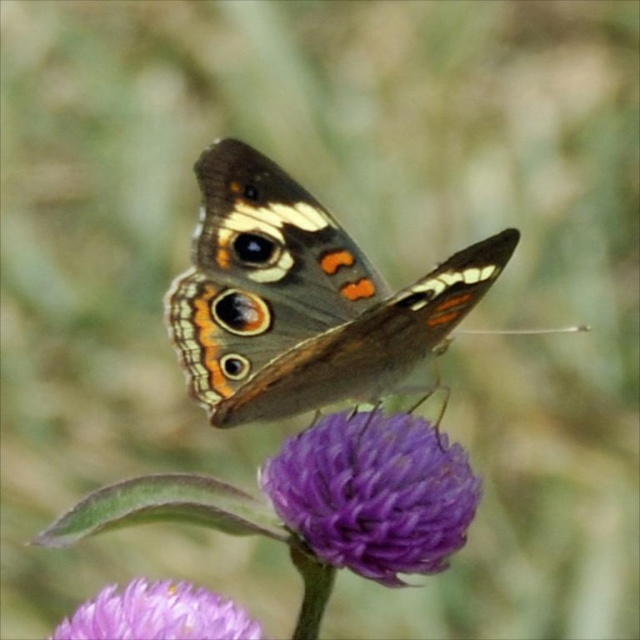Butterfly: (159, 131, 542, 455)
